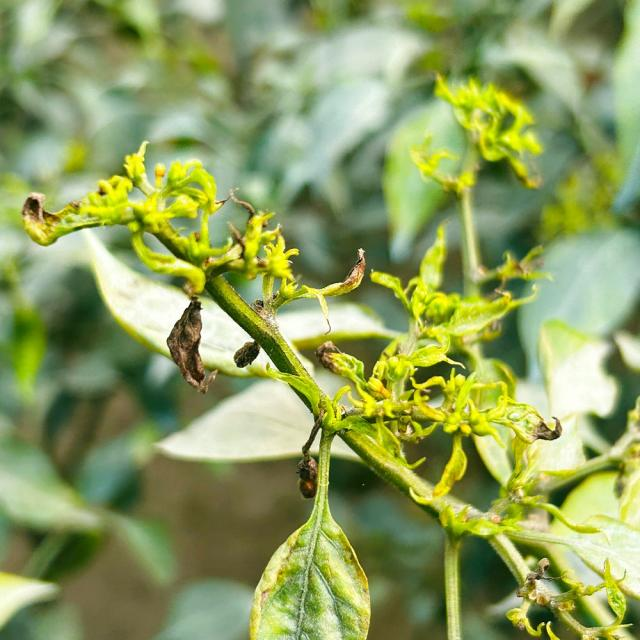Chilli_Leaf_Curl: (20, 73, 637, 637), (20, 139, 304, 393), (248, 416, 372, 638), (165, 296, 218, 394), (232, 339, 260, 368)
